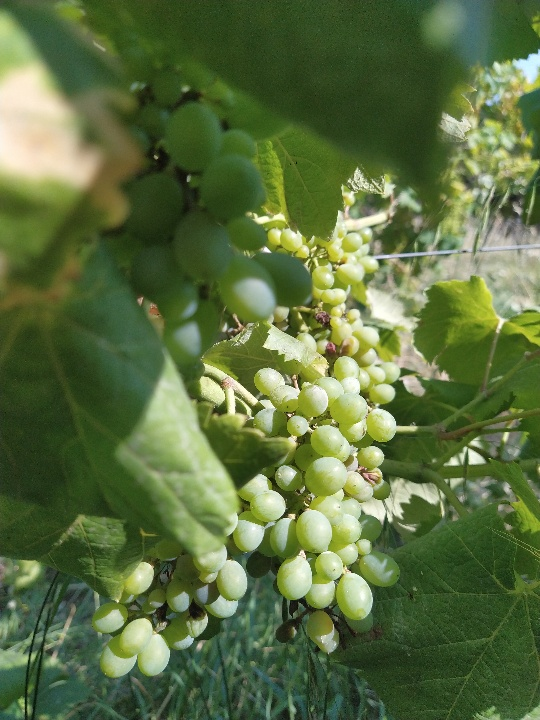grape: (89, 325, 403, 683)
